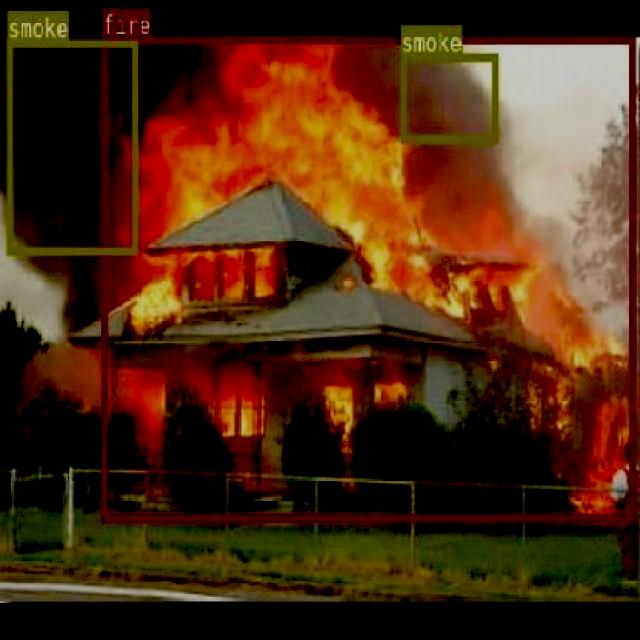fire: (100, 34, 634, 520)
smoke: (6, 39, 137, 252), (400, 53, 498, 142)
